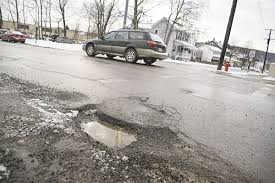pothole: (66, 100, 148, 157)
